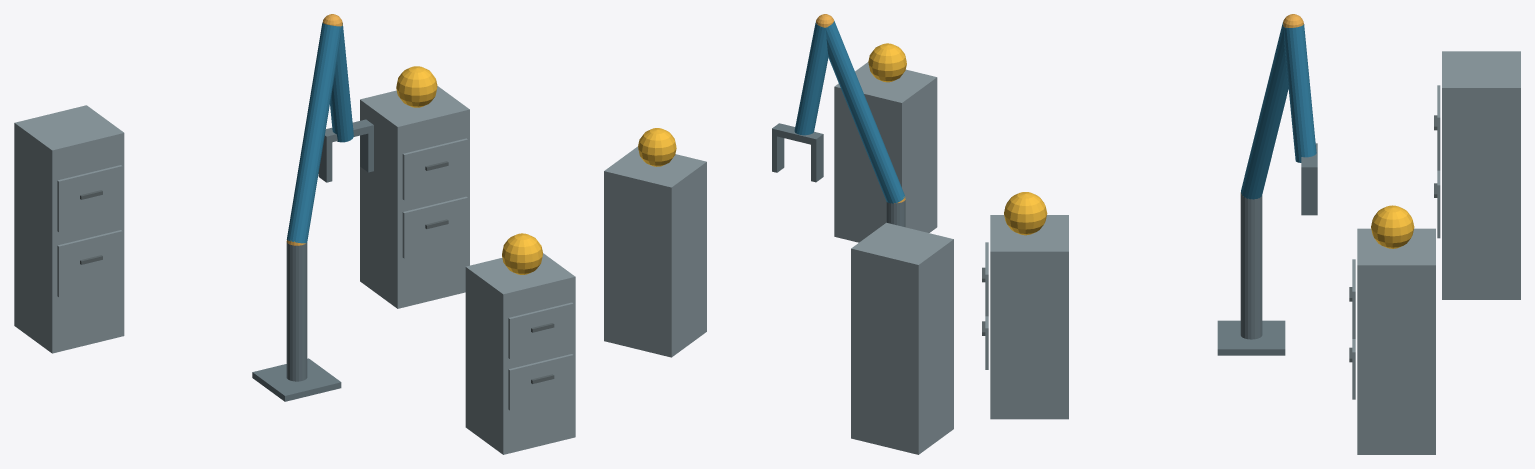
3 renders of one model, left to right at view 1: azimuth 30°, elevation 25°; view 2: azimuth 150°, elevation 25°; view 3: azimuth 270°, elevation 25°, orthographic. The views are drawn at different scales.
Visible parts, largest first — view 1: cabinet_3 body, cabinet_2 body, cabinet_1 body, moving link 1, cabinet_3 drawer front, cabinet_3 drawer front.001, cabinet_2 drawer front.001, cabinet_2 drawer front, fixed post, cabinet_1 drawer front.001, cabinet_1 drawer front, pedestal (+3 smaller); view 2: cabinet_3 body, cabinet_2 body, cabinet_1 body, moving link 1, moving link 2, released ball_1, ball ball_2, gripper bridge, gripper finger -1, fixed post, gripper finger 1; view 3: cabinet_3 body, cabinet_2 body, cabinet_1 body, moving link 1, fixed post, moving link 2, pedestal, ball ball_2, released ball_1, gripper finger 1.
Part boxes in pixels (left/top/right/bottom): cabinet_3 body: left=14, top=105, right=124, bottom=353; cabinet_2 body: left=360, top=86, right=469, bottom=308; cabinet_1 body: left=465, top=253, right=575, bottom=454; moving link 1: left=286, top=23, right=341, bottom=243; cabinet_3 drawer front: left=57, top=230, right=122, bottom=297; cabinet_3 drawer front.001: left=57, top=165, right=122, bottom=232; cabinet_2 drawer front.001: left=402, top=138, right=467, bottom=200; cabinet_2 drawer front: left=402, top=196, right=467, bottom=258; fixed post: left=286, top=242, right=307, bottom=381; cabinet_1 drawer front.001: left=508, top=302, right=573, bottom=358; cabinet_1 drawer front: left=508, top=354, right=573, bottom=410; pedestal: left=252, top=358, right=341, bottom=401; cabinet_3 body: left=851, top=222, right=953, bottom=454; cabinet_2 body: left=604, top=146, right=706, bottom=357; cabinet_1 body: left=834, top=62, right=937, bottom=242; moving link 1: left=825, top=20, right=904, bottom=203; moving link 2: left=794, top=22, right=828, bottom=135; released ball_1: left=868, top=43, right=906, bottom=82; ball ball_2: left=638, top=128, right=676, bottom=166; gripper bridge: left=772, top=123, right=823, bottom=145; gripper finger -1: left=811, top=141, right=823, bottom=182; fixed post: left=886, top=200, right=905, bottom=227; gripper finger 1: left=772, top=135, right=784, bottom=172; cabinet_3 body: left=1442, top=51, right=1520, bottom=299; cabinet_2 body: left=1357, top=228, right=1435, bottom=454; cabinet_1 body: left=990, top=215, right=1068, bottom=419; moving link 1: left=1241, top=22, right=1288, bottom=199; fixed post: left=1240, top=194, right=1262, bottom=339; moving link 2: left=1284, top=24, right=1316, bottom=162; pedestal: left=1217, top=320, right=1285, bottom=355; ball ball_2: left=1371, top=205, right=1414, bottom=248; released ball_1: left=1004, top=192, right=1047, bottom=235; gripper finger 1: left=1301, top=174, right=1317, bottom=215.
Size of the model in its own units: 1.67 by 1.44 by 1.98.
